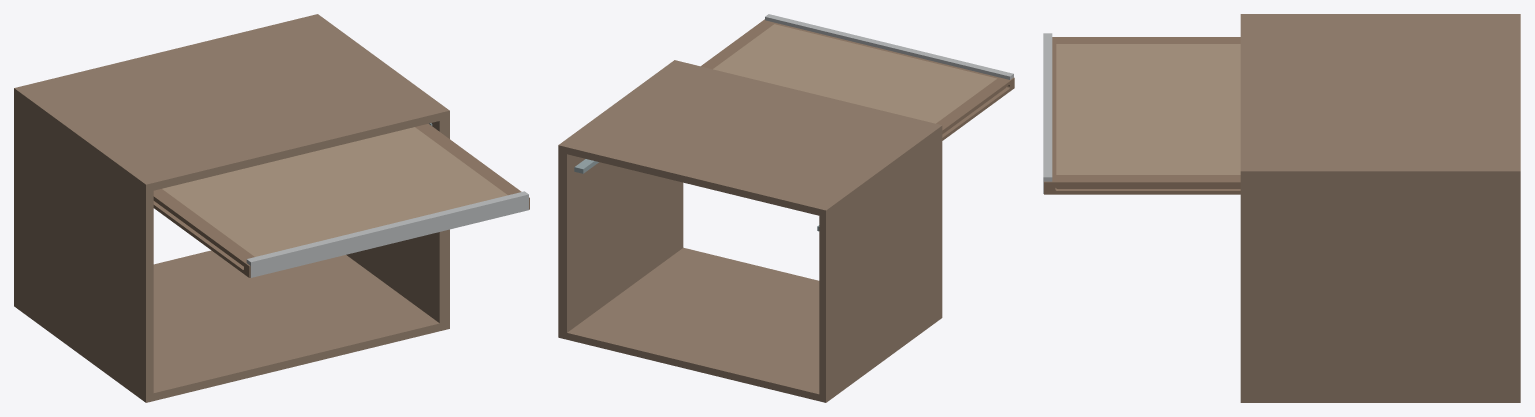
Rendered from mechanism-raised.glb.
The picture shows the model from 3 angles, left to right: view 1: azimuth 30°, elevation 25°; view 2: azimuth 150°, elevation 25°; view 3: azimuth 270°, elevation 25°; orthographic projection. The views are drawn at different scales.
Parts seen in each view (by area): view 1: Roof, Sill, Left-cheek, Plywood-infill-6, Edge-pull, Right-cheek, Stile-L, Stile-R; view 2: Roof, Sill, Left-cheek, Right-cheek, Plywood-infill-6, Edge-pull, Stile-L, Stile-R, Bottom-rail; view 3: Right-cheek, Roof, Plywood-infill-6, Stile-R, Sill, Edge-pull, Stile-L, Bottom-rail.
Part boxes in pixels (left/top/right/bottom): Roof: left=14, top=14, right=449, bottom=192; Sill: left=14, top=250, right=449, bottom=402; Left-cheek: left=14, top=96, right=153, bottom=394; Plywood-infill-6: left=162, top=127, right=507, bottom=256; Edge-pull: left=246, top=191, right=528, bottom=277; Right-cheek: left=346, top=118, right=449, bottom=323; Stile-L: left=153, top=189, right=254, bottom=277; Stile-R: left=415, top=123, right=529, bottom=209; Roof: left=558, top=60, right=942, bottom=217; Sill: left=558, top=247, right=942, bottom=402; Left-cheek: left=819, top=133, right=942, bottom=395; Right-cheek: left=558, top=152, right=683, bottom=332; Plywood-infill-6: left=713, top=24, right=996, bottom=123; Edge-pull: left=765, top=14, right=1013, bottom=79; Stile-L: left=936, top=77, right=1014, bottom=140; Stile-R: left=701, top=19, right=775, bottom=69; Bottom-rail: left=775, top=23, right=998, bottom=78; Right-cheek: left=1240, top=179, right=1520, bottom=394; Roof: left=1240, top=14, right=1520, bottom=179; Plywood-infill-6: left=1056, top=44, right=1240, bottom=174; Stile-R: left=1044, top=175, right=1240, bottom=194; Sill: left=1240, top=394, right=1520, bottom=402; Edge-pull: left=1043, top=33, right=1052, bottom=193; Stile-L: left=1052, top=37, right=1240, bottom=43; Bottom-rail: left=1052, top=44, right=1056, bottom=174.
Size of the model in its own units: 0.485 by 0.333 by 0.622.
